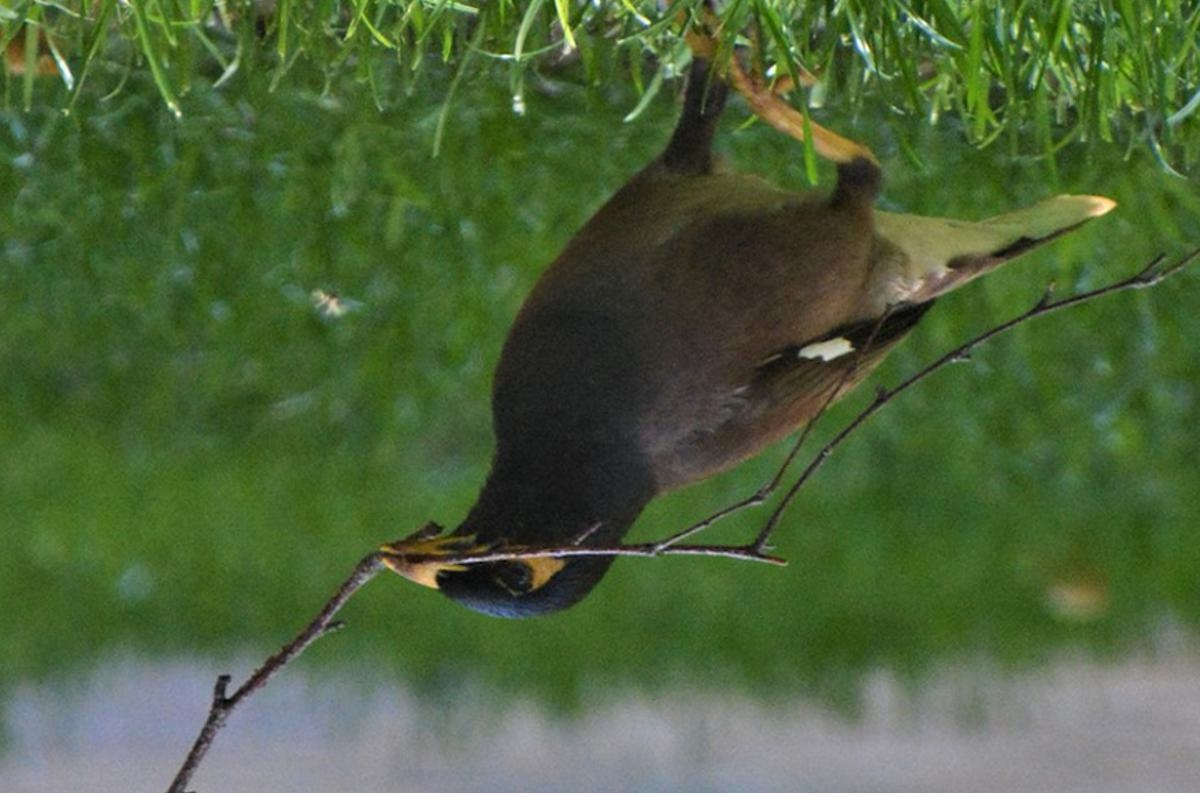myna: (361, 69, 1056, 631)
